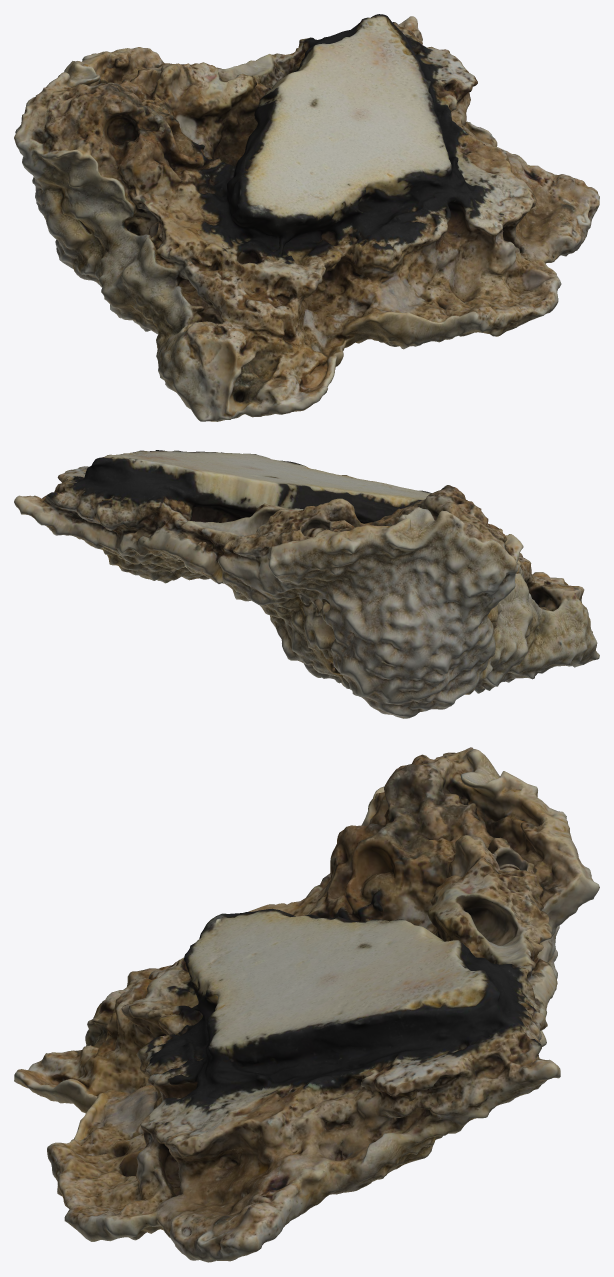
The model's file is smithsonian-pavona-chiriquiensis.glb.
The picture shows the model from 3 angles, top to bottom: view 1: azimuth 30°, elevation 25°; view 2: azimuth 150°, elevation 25°; view 3: azimuth 270°, elevation 25°; orthographic projection. The views are drawn at different scales.
Size of the model in its own units: 0.1128 by 0.0536 by 0.0871.
Materials: 1 (1 with a texture image).
